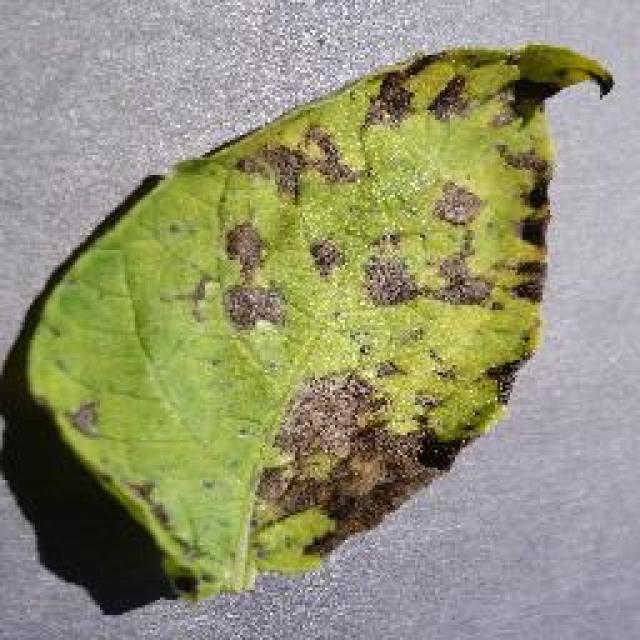early_blight: (2, 35, 620, 607)
